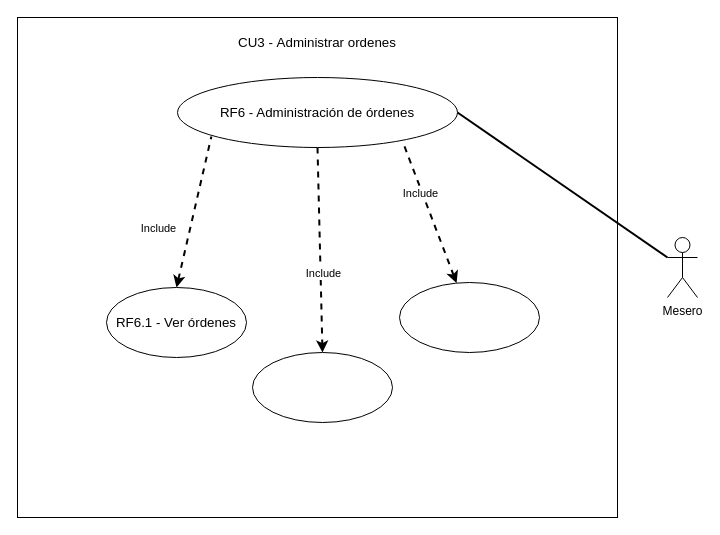
The diagram is 720 pixels wide and 535 high, and some of its shapes have lost their labels. The shapes that lost their labels are listed below. From the top down, each one's centre as x and y in pixels, then its label:
At point 469,317: "RF6.3 - Editar orden".
At point 322,387: "RF6.2 - Agregar orden".
